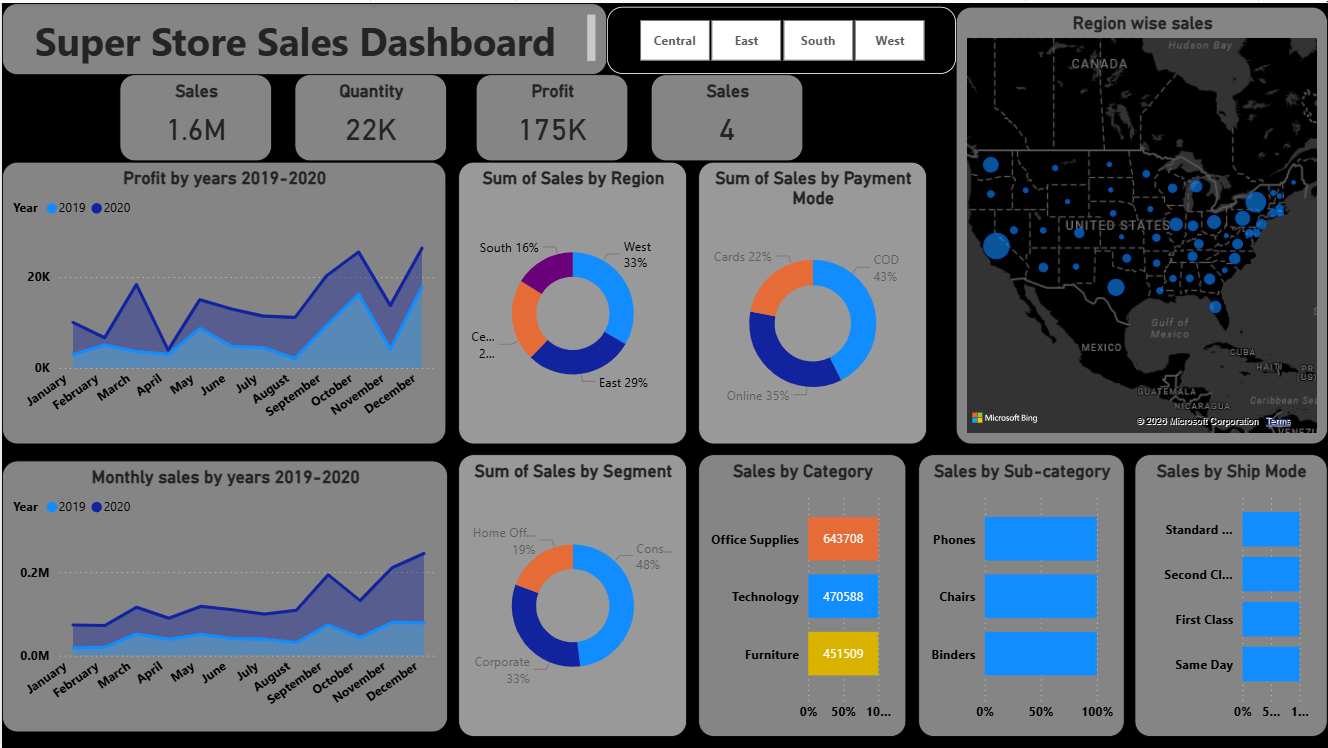

Layout of this report page (visuals, bound fields, positions):
{"tool":"powerbi","page":{"name":"Page 1","canvas":[1280,720],"ordinal":0},"visuals":[{"type":"hundredPercentStackedBarChart","title":" Sales by Category","fields":{"Category":["SuperStore_Sales_Dataset.Category"],"Y":["Sum(SuperStore_Sales_Dataset.Sales)"]},"box":[672.3,435.7,200.5,272.7],"z":0},{"type":"hundredPercentStackedBarChart","title":" Sales by Sub-category","fields":{"Category":["SuperStore_Sales_Dataset.Sub-Category"],"Y":["Sum(SuperStore_Sales_Dataset.Sales)"]},"box":[884.4,435.7,199.1,272.7],"z":1000},{"type":"hundredPercentStackedBarChart","title":" Sales by Ship Mode","fields":{"Category":["SuperStore_Sales_Dataset.Ship Mode"],"Y":["Sum(SuperStore_Sales_Dataset.Profit)"]},"box":[1093.6,435.7,186.1,272.7],"z":2000},{"type":"stackedAreaChart","title":"Monthly sales by years 2019-2020","fields":{"Category":["SuperStore_Sales_Dataset.Order Date.Variation.Date Hierarchy.Month"],"Series":["SuperStore_Sales_Dataset.Order Date.Variation.Date Hierarchy.Year"],"Y":["Sum(SuperStore_Sales_Dataset.Sales)"]},"box":[0,441.4,430.3,262.1],"z":3000},{"type":"stackedAreaChart","title":"Profit by years 2019-2020","fields":{"Category":["SuperStore_Sales_Dataset.Order Date.Variation.Date Hierarchy.Month"],"Series":["SuperStore_Sales_Dataset.Order Date.Variation.Date Hierarchy.Year"],"Y":["Sum(SuperStore_Sales_Dataset.Profit)"]},"box":[0,152.9,428.5,272.7],"z":4000},{"type":"map","title":"Region wise sales","fields":{"Category":["SuperStore_Sales_Dataset.State"],"Size":["Sum(SuperStore_Sales_Dataset.Sales)"]},"box":[920.5,3.6,359.5,422.3],"z":5000},{"type":"donutChart","fields":{"Category":["SuperStore_Sales_Dataset.Segment"],"Y":["Sum(SuperStore_Sales_Dataset.Sales)"]},"box":[440,435.7,220.7,272.7],"z":6000},{"type":"donutChart","fields":{"Category":["SuperStore_Sales_Dataset.Region"],"Y":["Sum(SuperStore_Sales_Dataset.Sales)"]},"box":[440,153.1,220.7,273.1],"z":7000},{"type":"donutChart","fields":{"Category":["SuperStore_Sales_Dataset.Payment Mode"],"Y":["Sum(SuperStore_Sales_Dataset.Sales)"]},"box":[671.7,153.1,220.7,273.1],"z":8000},{"type":"slicer","fields":{"Values":["SuperStore_Sales_Dataset.Region"]},"box":[583.9,3.6,336.6,65.1],"z":9000},{"type":"textbox","box":[0,0,584.3,69.3],"z":10000},{"type":"card","title":"Sales","fields":{"Values":["Sum(SuperStore_Sales_Dataset.Sales)"]},"box":[114,69.3,147.2,83.7],"z":11000},{"type":"card","title":"Quantity","fields":{"Values":["Sum(SuperStore_Sales_Dataset.Quantity)"]},"box":[282.8,69.3,147.2,83.7],"z":12000},{"type":"card","title":"Profit","fields":{"Values":["Sum(SuperStore_Sales_Dataset.Profit)"]},"box":[457.4,69.3,147.2,83.7],"z":13000},{"type":"card","title":"Sales","fields":{"Values":["Avg(SuperStore_Sales_Dataset.AvgDilevary)"]},"box":[626.2,69.3,147.2,83.7],"z":14000}]}

Visuals, with their boxes in screenshot pixels (x1, y1, x2, y2), scaled from the page's 1280x720 canvas onto the 1328x748 screenshot:
" Sales by Category" hundredPercentStackedBarChart: region(698, 453, 906, 736)
" Sales by Sub-category" hundredPercentStackedBarChart: region(918, 453, 1124, 736)
" Sales by Ship Mode" hundredPercentStackedBarChart: region(1135, 453, 1327, 736)
"Monthly sales by years 2019-2020" stackedAreaChart: region(0, 459, 446, 731)
"Profit by years 2019-2020" stackedAreaChart: region(0, 159, 445, 442)
"Region wise sales" map: region(955, 4, 1327, 442)
donutChart - SuperStore_Sales_Dataset.Segment x Sum(SuperStore_Sales_Dataset.Sales): region(457, 453, 685, 736)
donutChart - SuperStore_Sales_Dataset.Region x Sum(SuperStore_Sales_Dataset.Sales): region(457, 159, 685, 443)
donutChart - SuperStore_Sales_Dataset.Payment Mode x Sum(SuperStore_Sales_Dataset.Sales): region(697, 159, 926, 443)
slicer - SuperStore_Sales_Dataset.Region: region(606, 4, 955, 71)
textbox: region(0, 0, 606, 72)
"Sales" card: region(118, 72, 271, 159)
"Quantity" card: region(293, 72, 446, 159)
"Profit" card: region(475, 72, 627, 159)
"Sales" card: region(650, 72, 802, 159)
